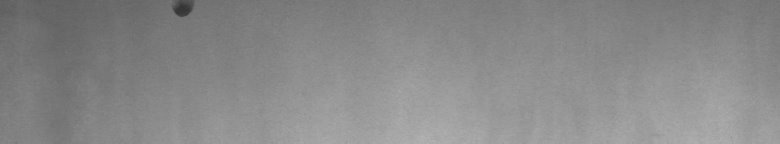fi: (168, 4, 199, 24)
